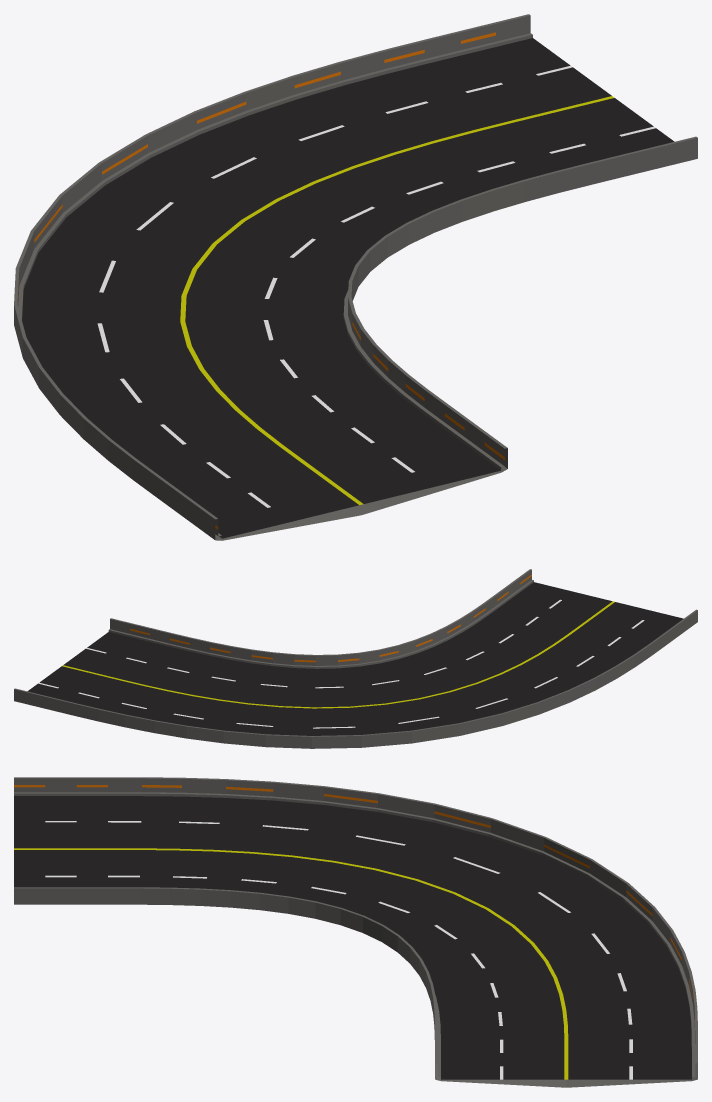
The model's file is StreetHard90.fbx.
The picture shows the model from 3 angles, top to bottom: view 1: azimuth 30°, elevation 25°; view 2: azimuth 150°, elevation 25°; view 3: azimuth 270°, elevation 25°; orthographic projection. The views are drawn at different scales.
Parts seen in each view (by area): view 1: Street, Barrier; view 2: Street, Barrier; view 3: Street, Barrier.
Boxes of the visible parts, x1,y1,x2,y2 form: Street: [22, 38, 674, 538]; Barrier: [14, 14, 697, 540]; Street: [27, 582, 683, 735]; Barrier: [14, 569, 697, 748]; Street: [14, 796, 691, 1079]; Barrier: [14, 777, 697, 1087].
Bounding box in the file's own units: 18384 × 735 × 18578.
